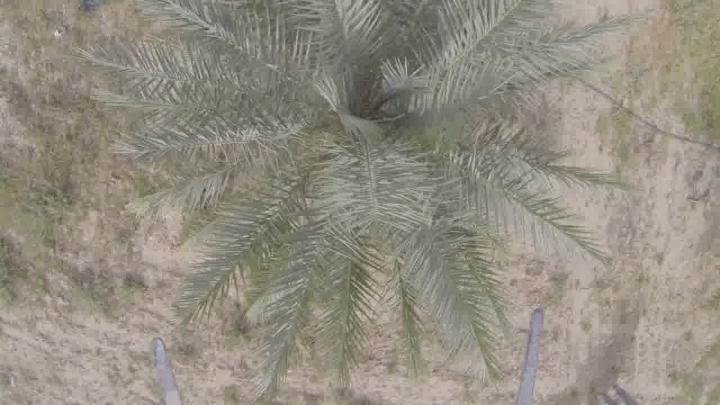Date-Palm-Crown: (229, 0, 498, 244)
